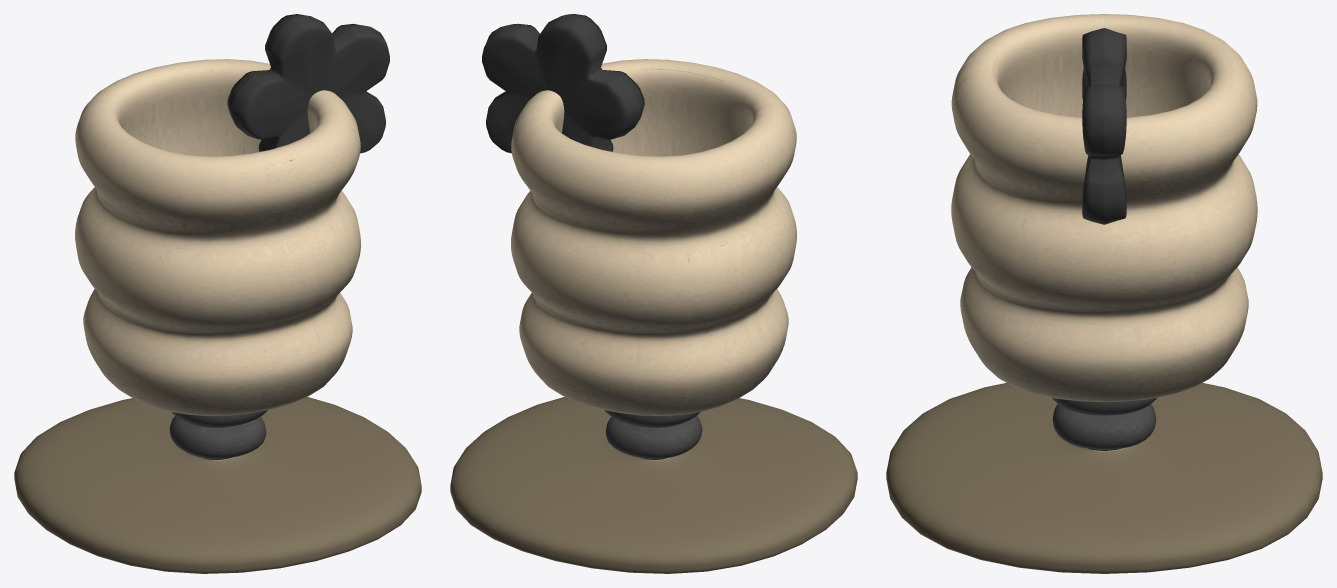
Rendered from cup1-transformed.glb.
The picture shows the model from 3 angles, left to right: view 1: azimuth 30°, elevation 25°; view 2: azimuth 150°, elevation 25°; view 3: azimuth 270°, elevation 25°; orthographic projection. The views are drawn at different scales.
Visible parts, largest first — view 1: Cube, Cylinder; view 2: Cube, Cylinder; view 3: Cube, Cylinder.
Boxes of the visible parts, <box> form: Cube: <box>14,59,421,573</box>; Cylinder: <box>227,14,389,153</box>; Cube: <box>450,59,857,573</box>; Cylinder: <box>482,14,644,153</box>; Cube: <box>886,14,1322,573</box>; Cylinder: <box>1082,28,1126,224</box>.
Bounding box in the file's own units: 2.75 × 3.46 × 2.75.
4 materials, 2 textured.
